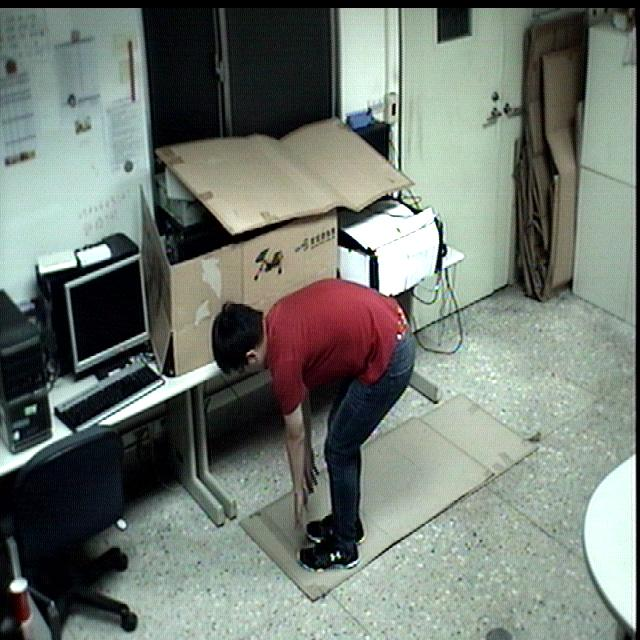bend: (206, 274, 424, 574)
